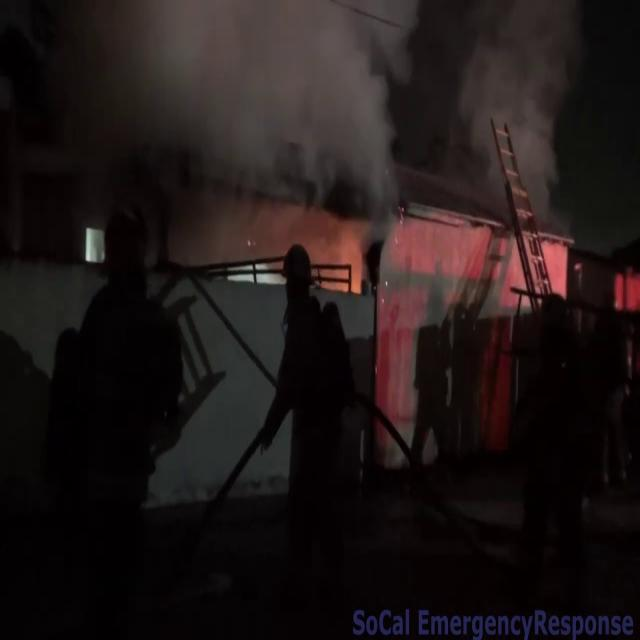Smoke: (80, 0, 418, 234), (442, 0, 577, 208)
